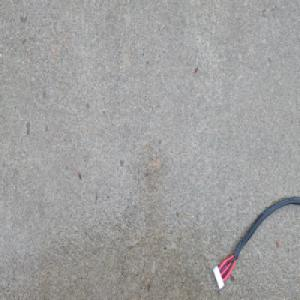Wire: (212, 196, 300, 290)
